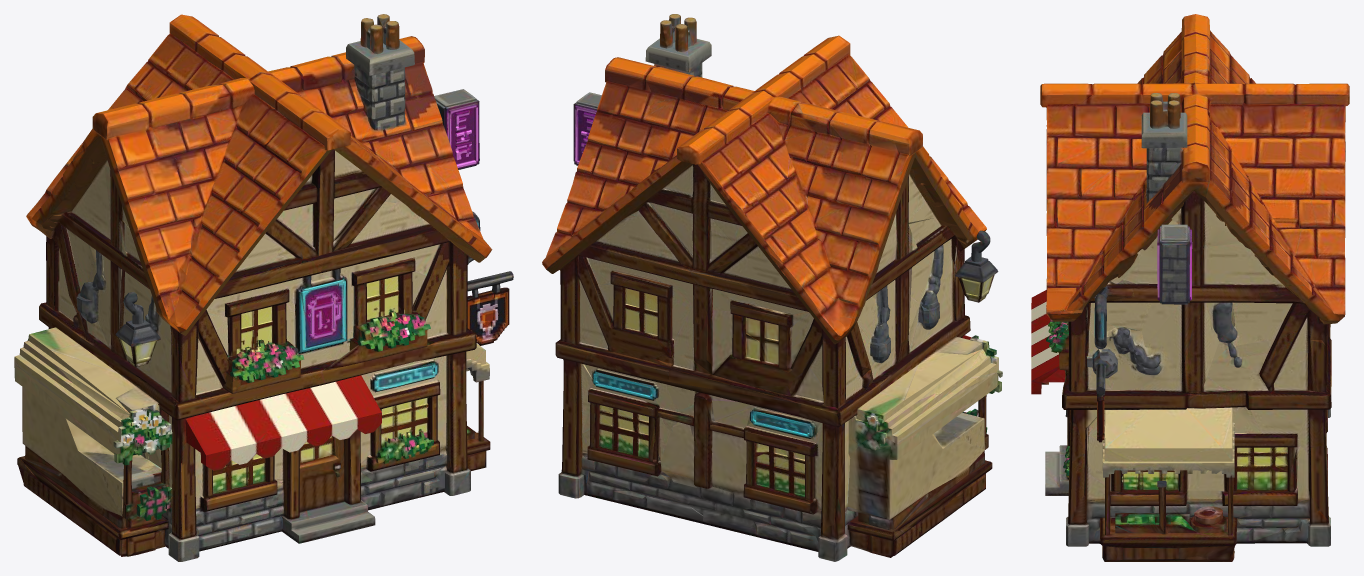
Rendered from pub.glb.
The picture shows the model from 3 angles, left to right: view 1: azimuth 30°, elevation 25°; view 2: azimuth 150°, elevation 25°; view 3: azimuth 270°, elevation 25°; orthographic projection. The views are drawn at different scales.
Bounding box in the file's own units: 12 × 12.69 × 8.54.
Materials: 1 (1 with a texture image).
